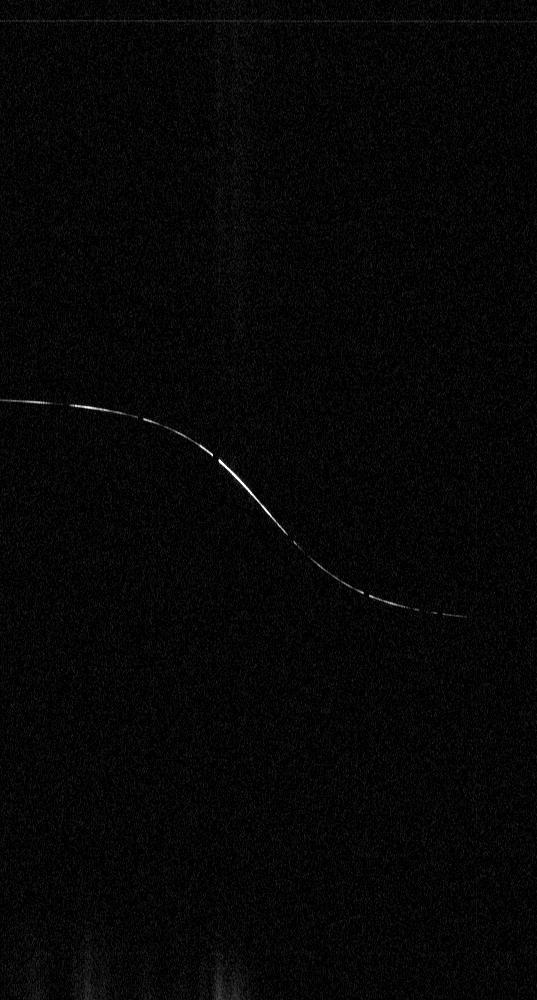signal: (0, 0, 536, 999)
